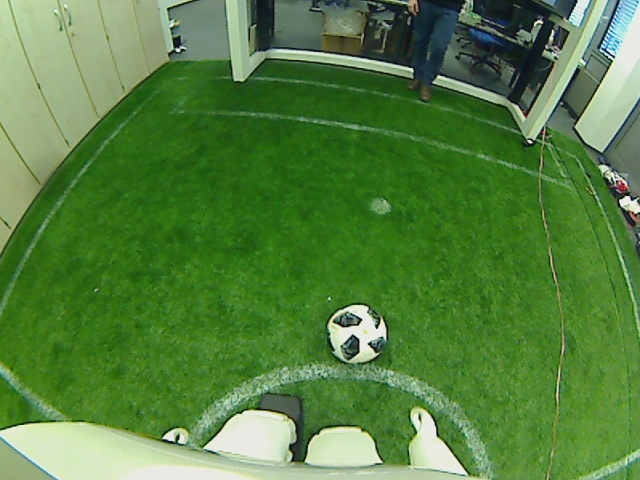ball: (324, 302, 388, 365)
